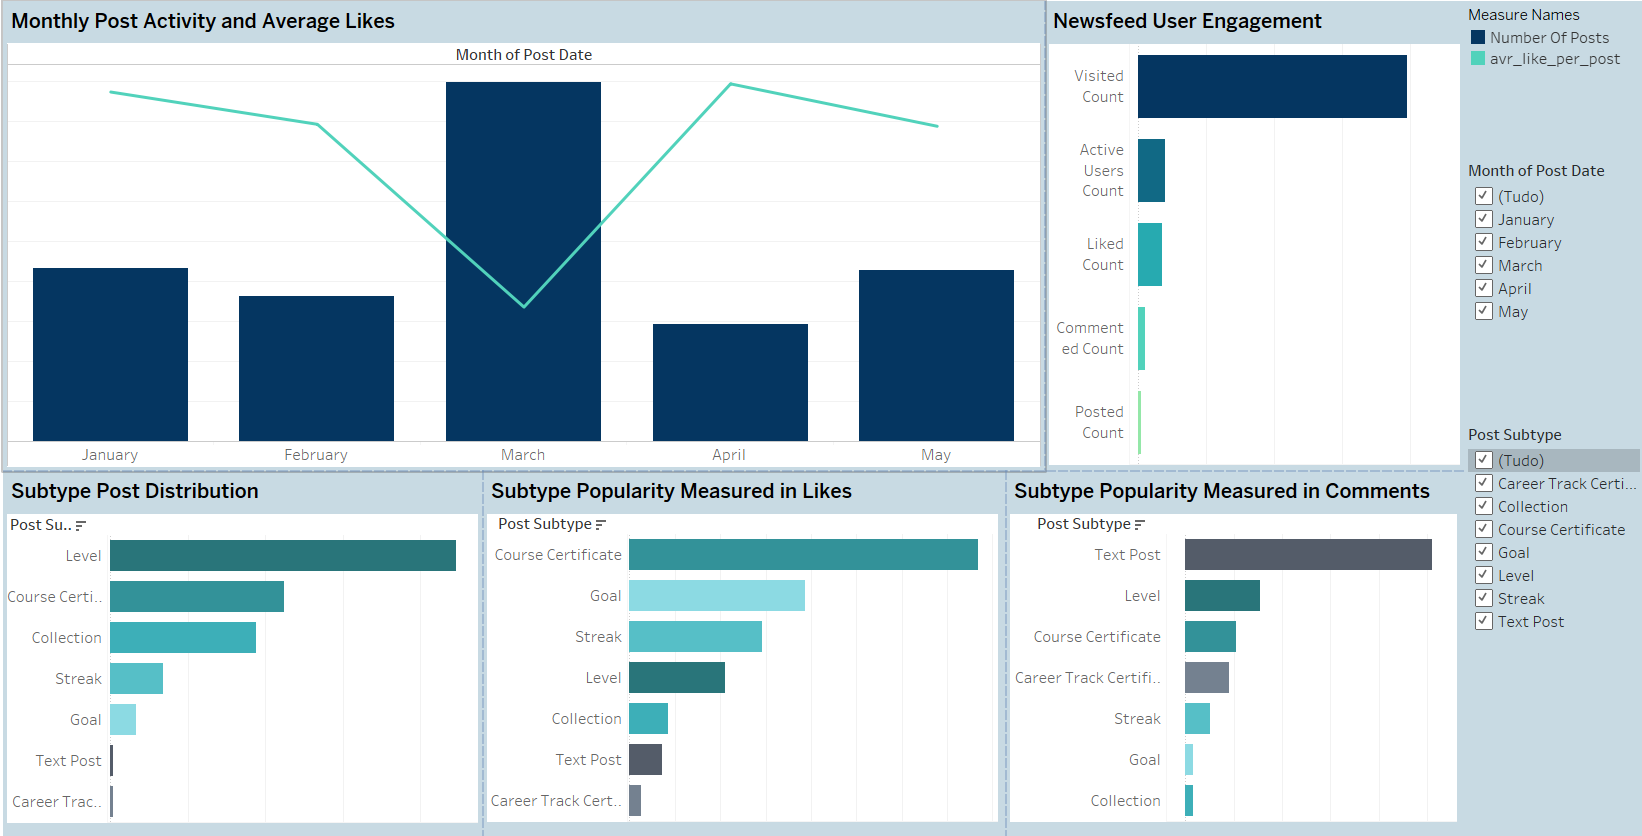

What the dashboard file says about the page in this screenshot:
{"tool":"tableau","page":{"name":"Painel 1","canvas":[1000,1000],"units":"permille","ordinal":0},"visuals":[{"type":"worksheet","title":"bar_line","mark":"Bar","rows":["number_of_posts","Calculation_643170369011269632"],"cols":["post_date"],"box":[4.8,9.4,628.8,552.3]},{"type":"worksheet","title":"newsfeed","mark":"Automatic","box":[633.6,9.4,252.9,552.3]},{"type":"legend","title":"bar_line","param":"[federated.1u2n35i1xwz2qw16idjyf1kn14rl].[:Measure Names]","box":[886.5,9.4,108.6,182.1]},{"type":"filter","title":"bar_line","param":"[federated.1u2n35i1xwz2qw16idjyf1kn14rl].[mn:post_date:ok]","box":[886.5,191.5,108.6,310.2]},{"type":"filter","title":"post","param":"[federated.1u2n35i1xwz2qw16idjyf1kn14rl].[none:post_subtype:nk]","box":[886.5,501.8,108.6,258.5]},{"type":"worksheet","title":"post","mark":"Automatic","rows":["post_subtype"],"cols":["number_of_posts"],"box":[4.8,561.7,289.9,428.9]},{"type":"worksheet","title":"likes","mark":"Automatic","rows":["post_subtype"],"cols":["number_of_likes"],"box":[294.7,561.7,315.5,428.9]},{"type":"worksheet","title":"coments","mark":"Automatic","rows":["post_subtype"],"cols":["number_of_comments"],"box":[610.2,561.7,276.3,428.9]}]}

Visuals, with their boxes on the dashboard's canvas, which has no fixed pixel size, in thousandths of its width and height (x1, y1, x2, y2). These are canvas units, not pixel positions in the 1642x836 screenshot, which may show the page scaled, cropped or inside an application window:
"bar_line" worksheet (Bar marks): region(5, 9, 634, 562)
"newsfeed" worksheet: region(634, 9, 886, 562)
"bar_line" legend: region(886, 9, 995, 192)
"bar_line" filter: region(886, 192, 995, 502)
"post" filter: region(886, 502, 995, 760)
"post" worksheet: region(5, 562, 295, 991)
"likes" worksheet: region(295, 562, 610, 991)
"coments" worksheet: region(610, 562, 886, 991)
